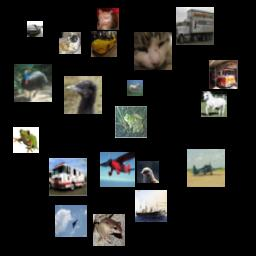airplane: (187, 149, 225, 187), (100, 152, 135, 187), (55, 205, 87, 237)
automobile: (91, 31, 117, 57)
bird: (14, 64, 52, 102), (64, 76, 102, 114), (137, 161, 159, 183)
cat: (134, 32, 172, 70), (97, 8, 119, 30)
dog: (59, 32, 81, 54)
frog: (93, 214, 125, 246), (115, 106, 147, 138), (13, 127, 39, 153)
ship: (135, 190, 167, 222), (27, 21, 43, 37)
truck: (49, 158, 87, 196), (176, 7, 214, 45), (209, 60, 238, 89)
